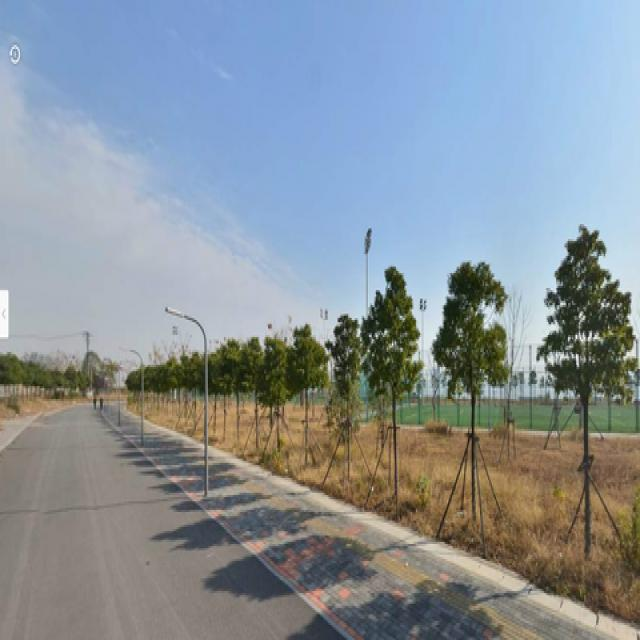cinn: (544, 239, 623, 518), (438, 241, 493, 512), (366, 284, 406, 482), (336, 318, 359, 493), (295, 326, 317, 461), (266, 340, 286, 470)
